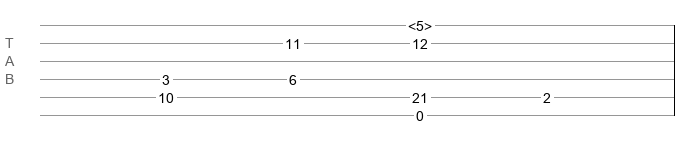0: (416, 108, 424, 118)
10: (158, 90, 174, 100)
11: (285, 36, 301, 46)
12: (412, 36, 428, 46)
2: (543, 90, 551, 100)
21: (412, 90, 428, 100)
3: (162, 72, 170, 82)
6: (289, 72, 297, 82)
harmonic: (408, 18, 432, 28)
